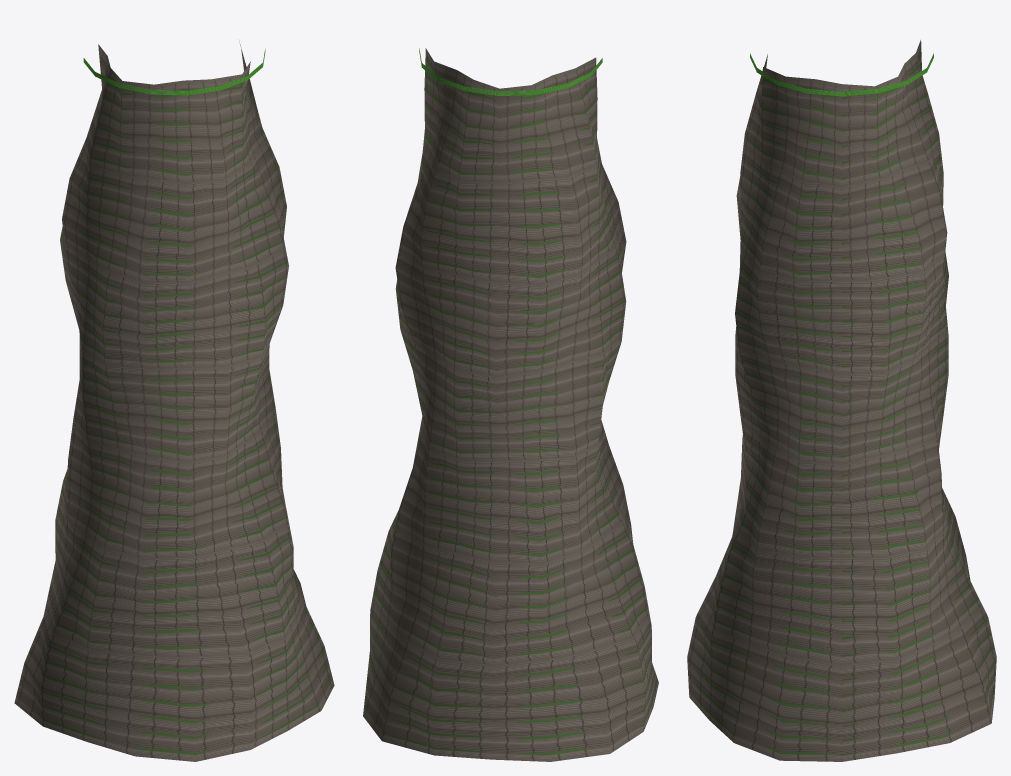
Rendered from karst_mountain_spire.glb.
The picture shows the model from 3 angles, left to right: view 1: azimuth 30°, elevation 25°; view 2: azimuth 150°, elevation 25°; view 3: azimuth 270°, elevation 25°; orthographic projection.
Parts seen in each view (by area): view 1: karst_mountain_spire; view 2: karst_mountain_spire; view 3: karst_mountain_spire.
Part boxes in pixels (x1,y1,x2,y2): karst_mountain_spire: [14, 41, 334, 761]; karst_mountain_spire: [363, 48, 658, 761]; karst_mountain_spire: [687, 40, 996, 761].
Size of the model in its own units: 14.8 by 34 by 14.8.
Materials: 2 (2 with a texture image).
